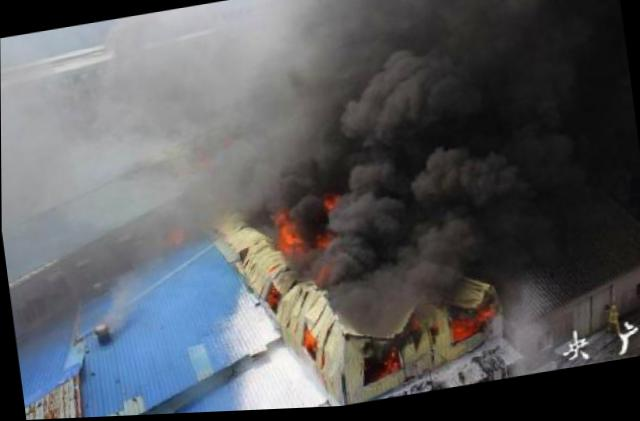fire: (272, 211, 300, 253), (449, 317, 476, 343), (300, 330, 318, 352), (381, 358, 399, 377), (476, 310, 493, 323)
